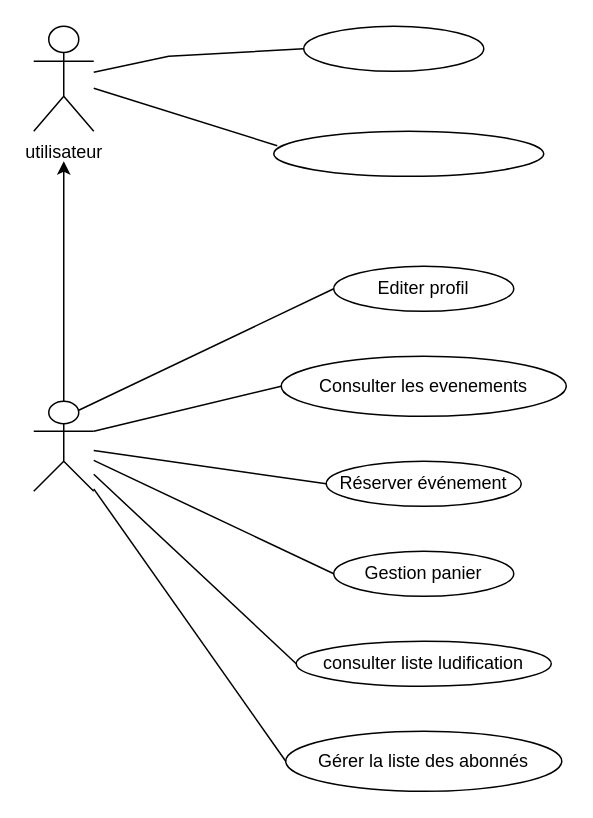
This 593x818 diagram has some shape labels left out. Each missing label, with the box of its shape:
Client: (32, 400, 94, 491)
Consulter les evenememnts: (272, 130, 544, 176)
Créer compte: (302, 25, 484, 71)
